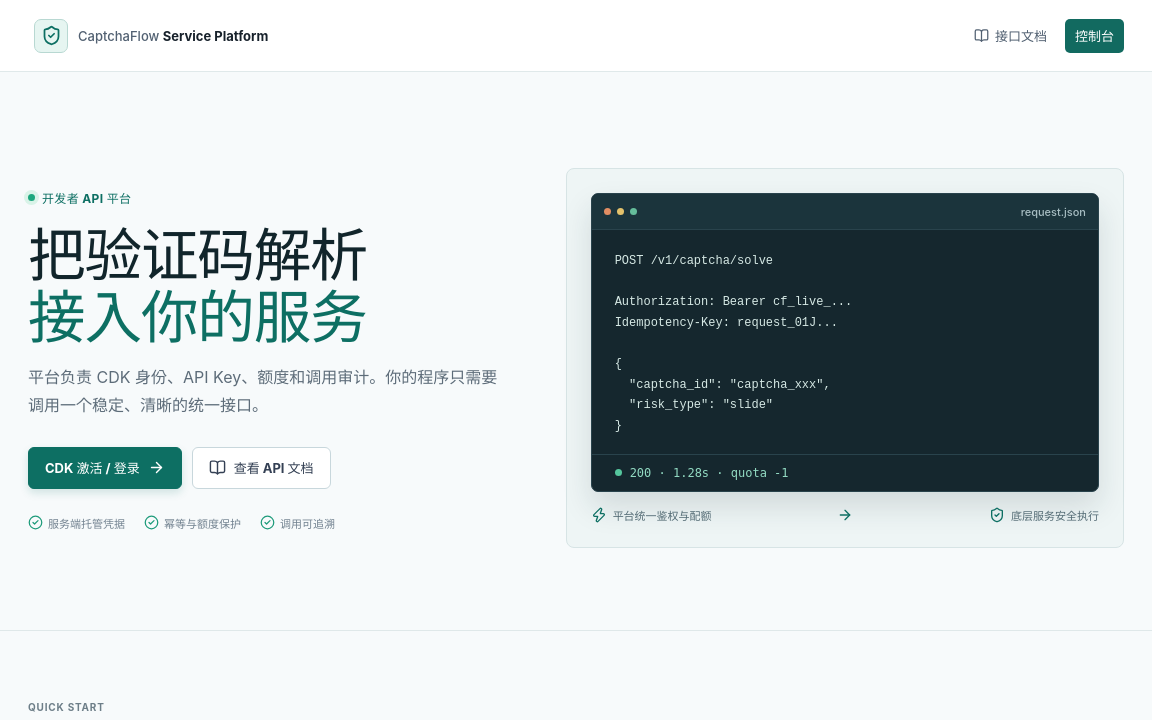
it: App › shows a console shortcut in the public header when a session exists
Click the button "控制台" at (1094, 36), box [1065,18,1124,52]
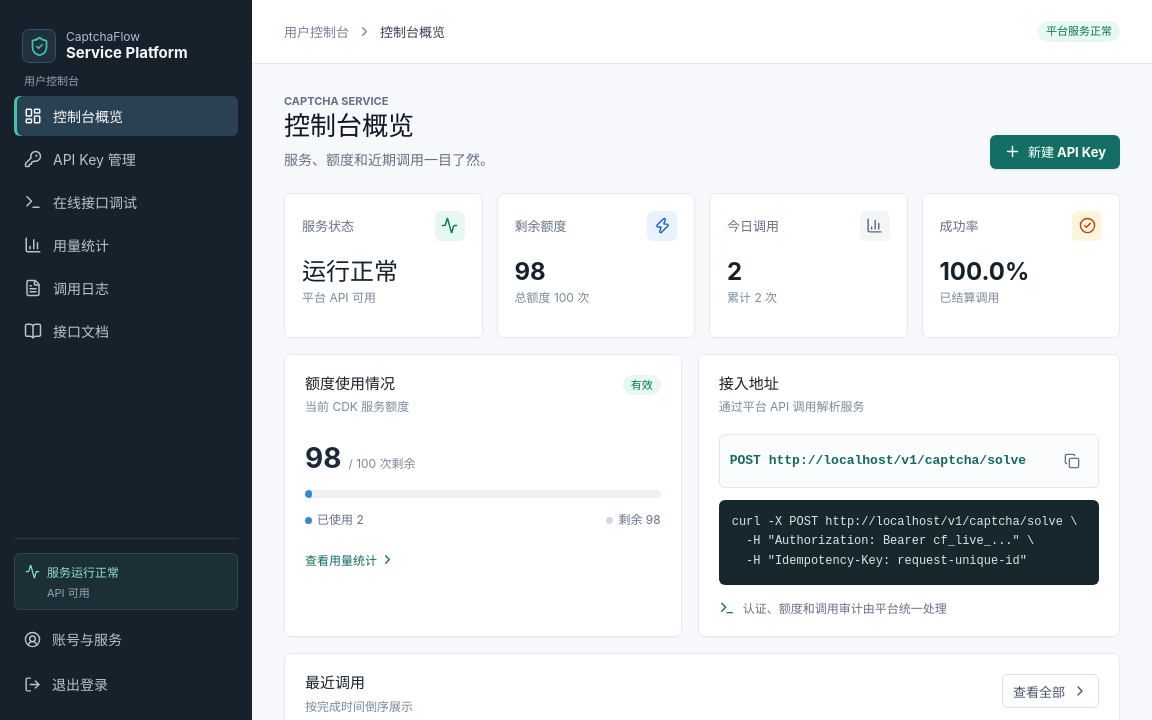
Expected: the heading "控制台概览" is shown, [284,110,414,141]
